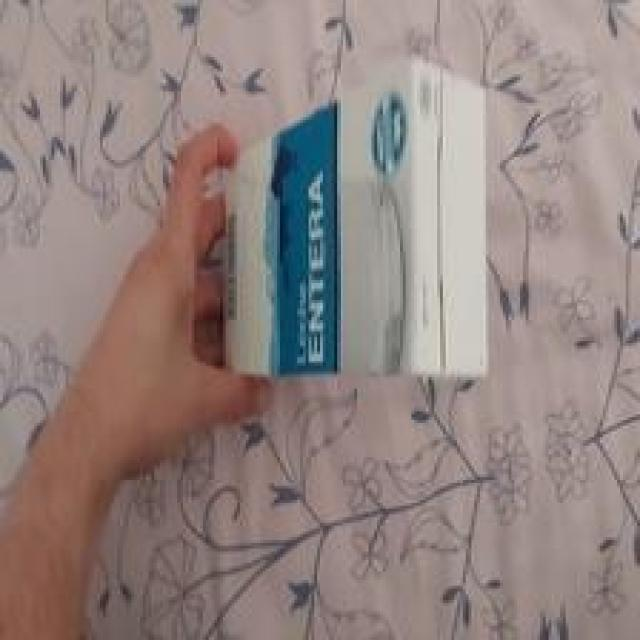Carton: (227, 57, 487, 383)
